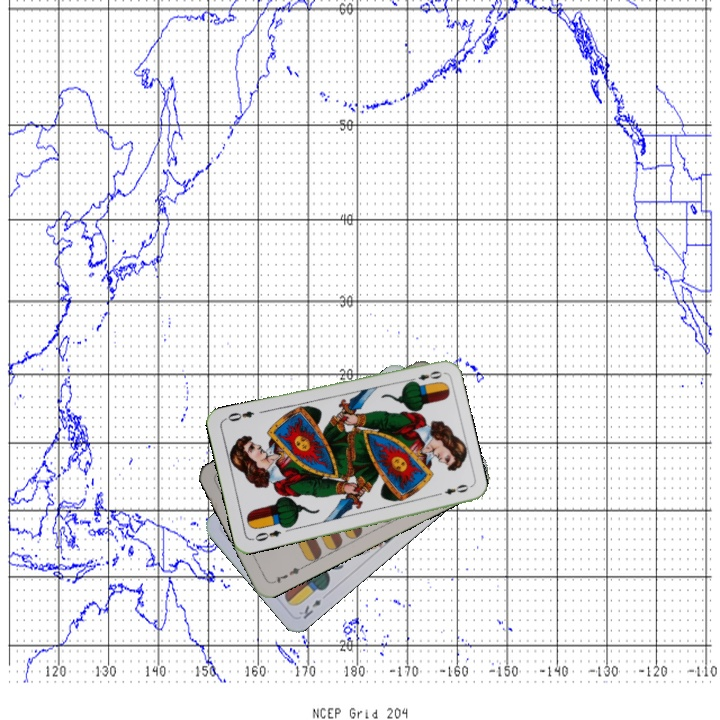E7: (268, 562, 306, 586)
EK: (295, 595, 324, 622)
EO: (405, 367, 445, 386), (248, 526, 284, 544)
